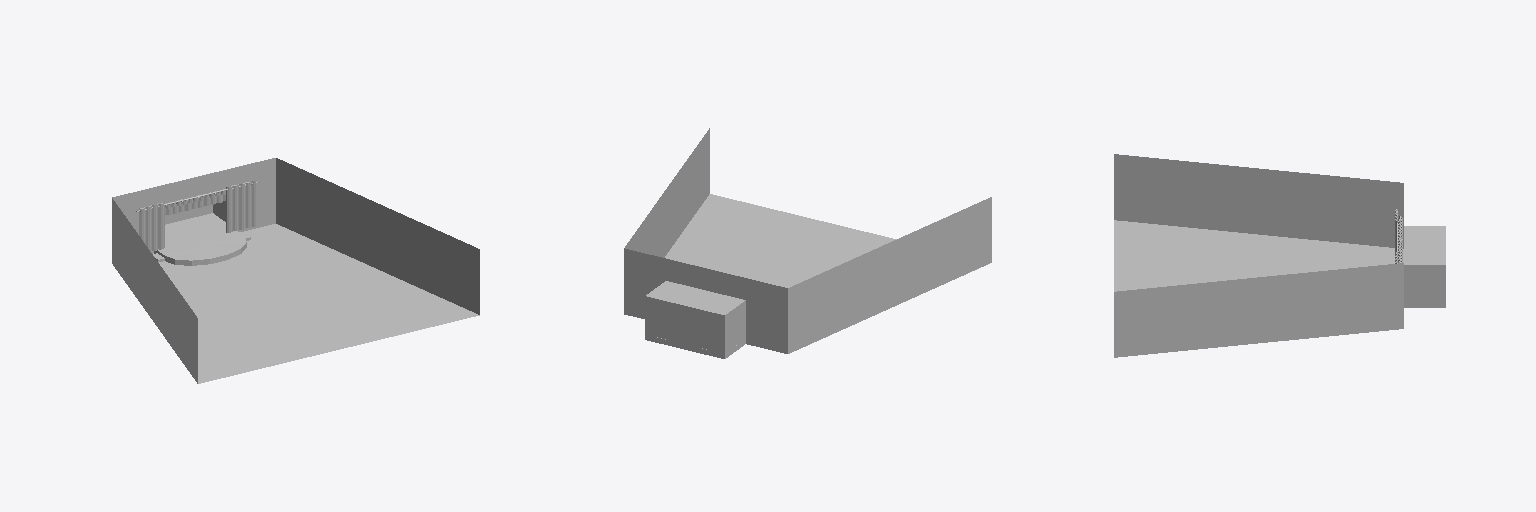
File: THEATRE_4.obj
3 renders of one model, left to right at view 1: azimuth 30°, elevation 25°; view 2: azimuth 150°, elevation 25°; view 3: azimuth 270°, elevation 25°, orthographic.
Parts seen in each view (by area): view 1: THEATRE Walls1, Stage THEATRE, THEATRE Curtains Right_curtain Curtains_1, THEATRE Curtains Curtains_1 Left_curtain; view 2: THEATRE Walls1, Stage THEATRE; view 3: THEATRE Walls1.
Part boxes in pixels (bbox=[...]): THEATRE Walls1: bbox=[112, 158, 479, 383]; Stage THEATRE: bbox=[154, 213, 246, 265]; THEATRE Curtains Right_curtain Curtains_1: bbox=[226, 181, 255, 232]; THEATRE Curtains Curtains_1 Left_curtain: bbox=[139, 202, 164, 251]; THEATRE Walls1: bbox=[624, 128, 991, 353]; Stage THEATRE: bbox=[645, 335, 745, 358]; THEATRE Walls1: bbox=[1114, 154, 1445, 357].
Size of the model in its own units: 108 by 24.15 by 110.